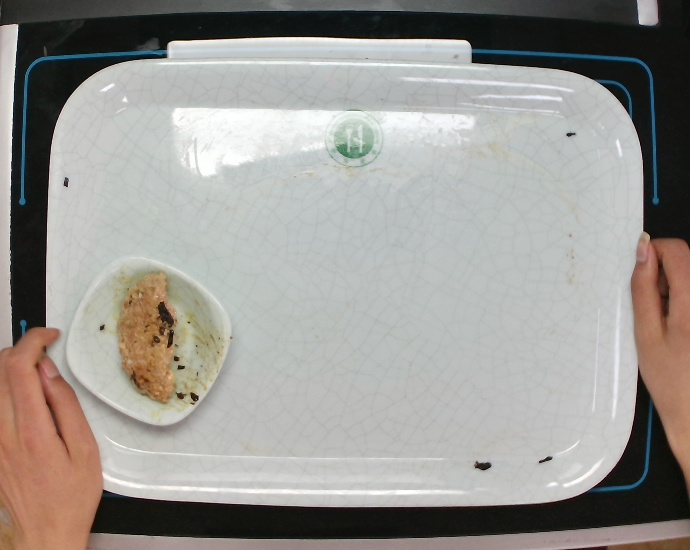JYsf-Si_Fang_Die: (61, 250, 236, 433)
